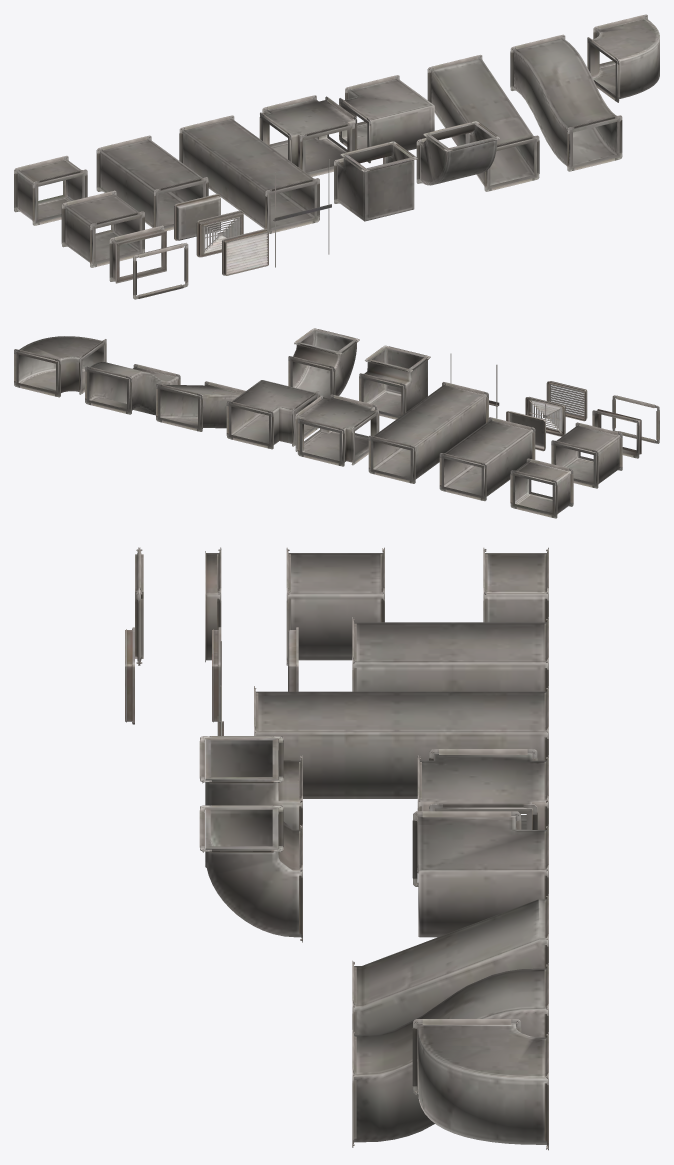
File: modular_airduct_rectangular_01.glb
3 views of the same model, one above another, from view 1: azimuth 30°, elevation 25°; view 2: azimuth 150°, elevation 25°; view 3: azimuth 270°, elevation 25° (orthographic). The views are drawn at different scales.
Visible parts, largest first — view 1: modular_airduct_rectangular_01_transition_double_02, modular_airduct_rectangular_01_tripple_01, modular_airduct_rectangular_01_transition_double_01, modular_airduct_rectangular_01_double_01, modular_airduct_rectangular_01_splitter_01, modular_airduct_rectangular_01_corner_01, modular_airduct_rectangular_01_corner_02, modular_airduct_rectangular_01_bend_02, modular_airduct_rectangular_01_single_01, modular_airduct_rectangular_01_bend_01, modular_airduct_rectangular_01_half_01, modular_airduct_rectangular_01_vent_01 (+4 smaller); view 2: modular_airduct_rectangular_01_tripple_01, modular_airduct_rectangular_01_double_01, modular_airduct_rectangular_01_splitter_01, modular_airduct_rectangular_01_corner_02, modular_airduct_rectangular_01_bend_02, modular_airduct_rectangular_01_corner_01, modular_airduct_rectangular_01_bend_01, modular_airduct_rectangular_01_transition_double_02, modular_airduct_rectangular_01_single_01, modular_airduct_rectangular_01_transition_double_01, modular_airduct_rectangular_01_half_01, modular_airduct_rectangular_01_vent_01 (+4 smaller); view 3: modular_airduct_rectangular_01_tripple_01, modular_airduct_rectangular_01_bend_02, modular_airduct_rectangular_01_corner_02, modular_airduct_rectangular_01_double_01, modular_airduct_rectangular_01_transition_double_01, modular_airduct_rectangular_01_transition_double_02, modular_airduct_rectangular_01_bend_01, modular_airduct_rectangular_01_single_01, modular_airduct_rectangular_01_splitter_01, modular_airduct_rectangular_01_corner_01, modular_airduct_rectangular_01_half_01, modular_airduct_rectangular_01_connector_01 (+3 smaller).
Part boxes in pixels (x1=…): modular_airduct_rectangular_01_transition_double_02: x1=510, y1=34, x2=622, y2=171; modular_airduct_rectangular_01_tripple_01: x1=179, y1=115, x2=319, y2=233; modular_airduct_rectangular_01_transition_double_01: x1=427, y1=54, x2=539, y2=191; modular_airduct_rectangular_01_double_01: x1=96, y1=135, x2=208, y2=230; modular_airduct_rectangular_01_splitter_01: x1=259, y1=95, x2=357, y2=176; modular_airduct_rectangular_01_corner_01: x1=334, y1=141, x2=417, y2=221; modular_airduct_rectangular_01_corner_02: x1=339, y1=75, x2=434, y2=163; modular_airduct_rectangular_01_bend_02: x1=587, y1=14, x2=659, y2=102; modular_airduct_rectangular_01_single_01: x1=61, y1=190, x2=144, y2=267; modular_airduct_rectangular_01_bend_01: x1=416, y1=121, x2=500, y2=185; modular_airduct_rectangular_01_half_01: x1=14, y1=155, x2=87, y2=225; modular_airduct_rectangular_01_vent_01: x1=222, y1=229, x2=268, y2=275; modular_airduct_rectangular_01_tripple_01: x1=368, y1=382, x2=488, y2=483; modular_airduct_rectangular_01_double_01: x1=439, y1=417, x2=535, y2=501; modular_airduct_rectangular_01_splitter_01: x1=295, y1=394, x2=379, y2=466; modular_airduct_rectangular_01_corner_02: x1=226, y1=380, x2=319, y2=449; modular_airduct_rectangular_01_bend_02: x1=14, y1=336, x2=106, y2=397; modular_airduct_rectangular_01_corner_01: x1=359, y1=345, x2=430, y2=419; modular_airduct_rectangular_01_bend_01: x1=288, y1=328, x2=359, y2=399; modular_airduct_rectangular_01_transition_double_02: x1=85, y1=362, x2=180, y2=415; modular_airduct_rectangular_01_single_01: x1=551, y1=422, x2=622, y2=488; modular_airduct_rectangular_01_transition_double_01: x1=156, y1=381, x2=245, y2=431; modular_airduct_rectangular_01_half_01: x1=510, y1=458, x2=573, y2=518; modular_airduct_rectangular_01_vent_01: x1=546, y1=381, x2=587, y2=421; modular_airduct_rectangular_01_tripple_01: x1=254, y1=686, x2=548, y2=798; modular_airduct_rectangular_01_bend_02: x1=412, y1=1019, x2=548, y2=1150; modular_airduct_rectangular_01_corner_02: x1=412, y1=811, x2=548, y2=937; modular_airduct_rectangular_01_double_01: x1=352, y1=617, x2=548, y2=691; modular_airduct_rectangular_01_transition_double_01: x1=352, y1=894, x2=548, y2=1034; modular_airduct_rectangular_01_transition_double_02: x1=352, y1=963, x2=548, y2=1147; modular_airduct_rectangular_01_bend_01: x1=199, y1=805, x2=302, y2=942; modular_airduct_rectangular_01_single_01: x1=286, y1=547, x2=384, y2=665; modular_airduct_rectangular_01_splitter_01: x1=417, y1=749, x2=548, y2=873; modular_airduct_rectangular_01_corner_01: x1=199, y1=736, x2=302, y2=867; modular_airduct_rectangular_01_half_01: x1=483, y1=547, x2=548, y2=622; modular_airduct_rectangular_01_connector_01: x1=205, y1=547, x2=221, y2=662.
Size of the model in its own units: 7.66 by 1.26 by 2.59.
2 materials, 2 textured.
